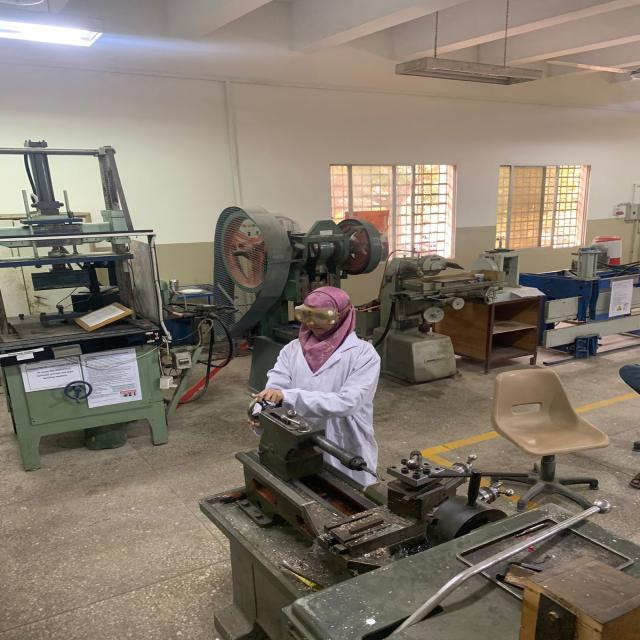googles: (294, 304, 340, 326)
labcoat: (261, 327, 383, 487)
